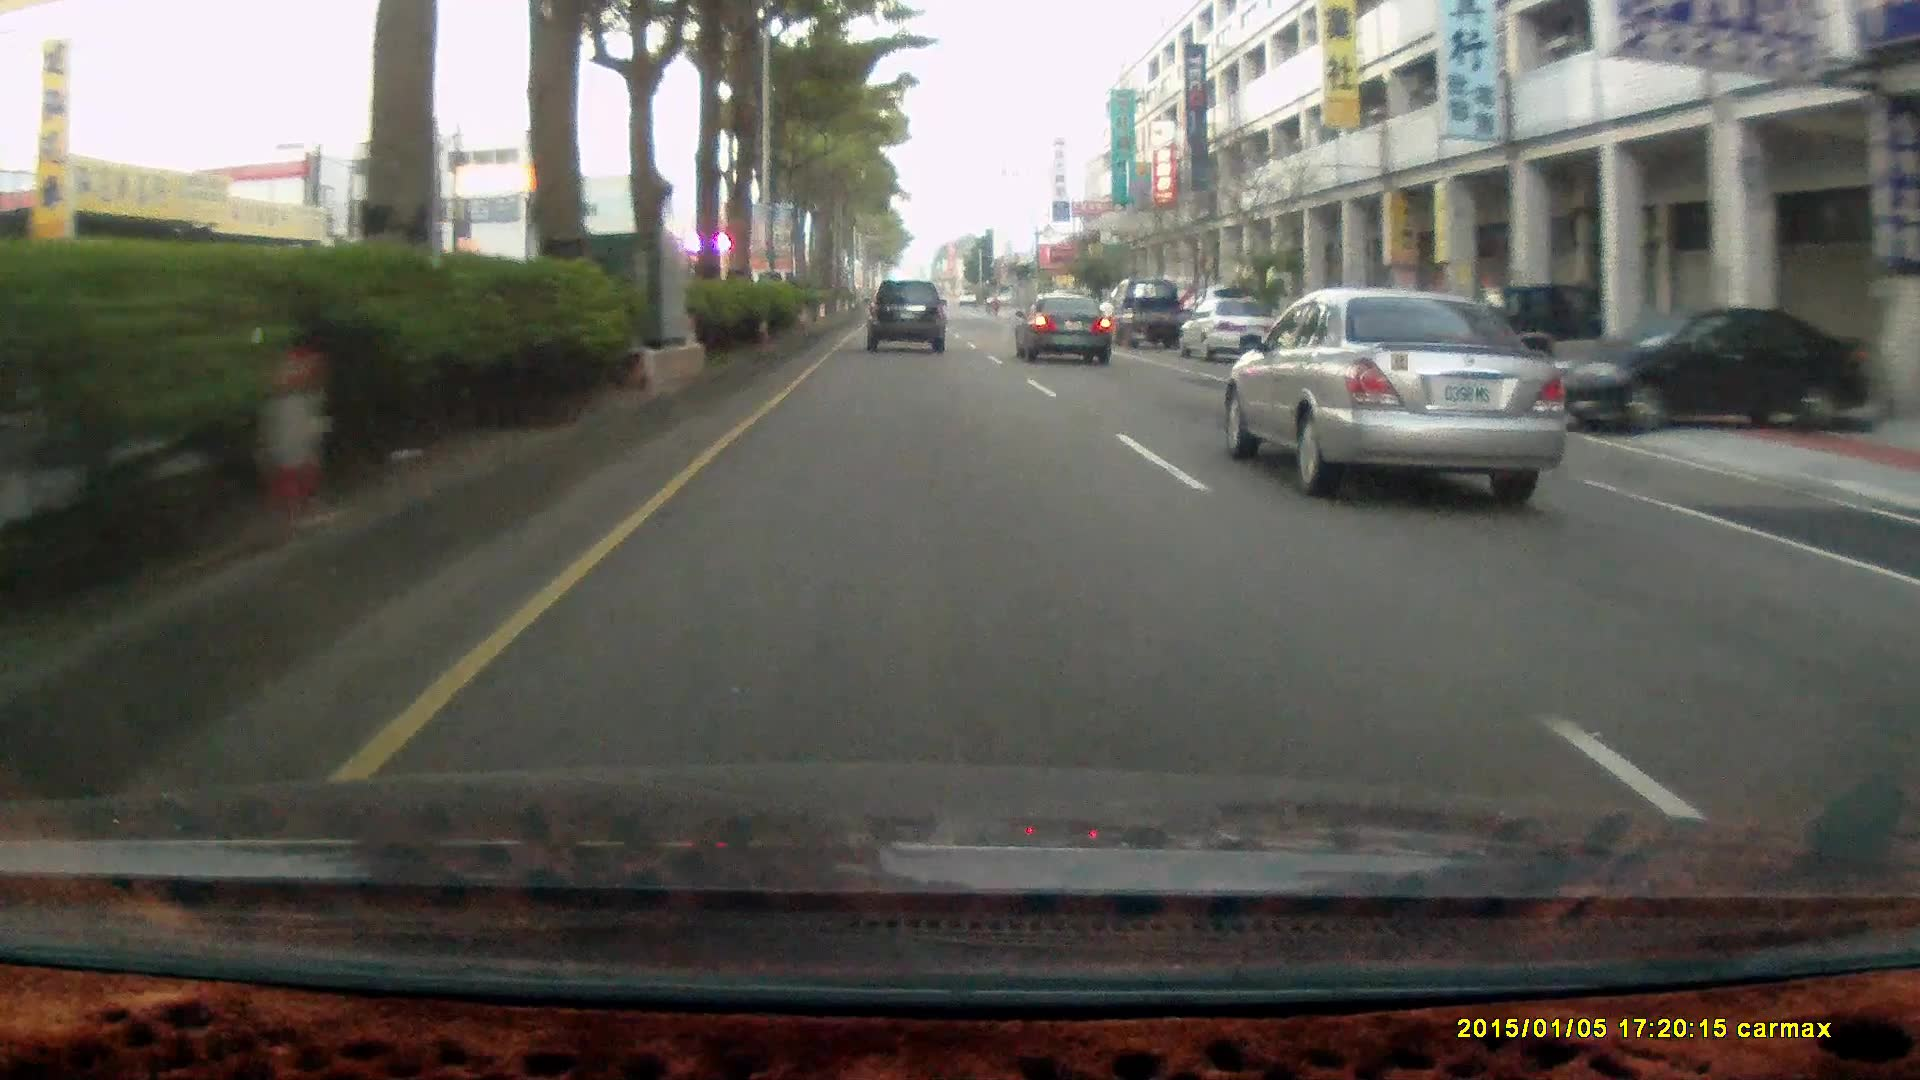vehicle: (1224, 291, 1571, 505), (1548, 302, 1884, 440), (1535, 305, 1871, 434), (1176, 295, 1284, 363), (1013, 291, 1113, 363), (1184, 298, 1287, 367), (1019, 297, 1118, 368), (866, 280, 948, 357), (862, 278, 945, 349), (1105, 276, 1183, 348), (1105, 277, 1178, 349)
